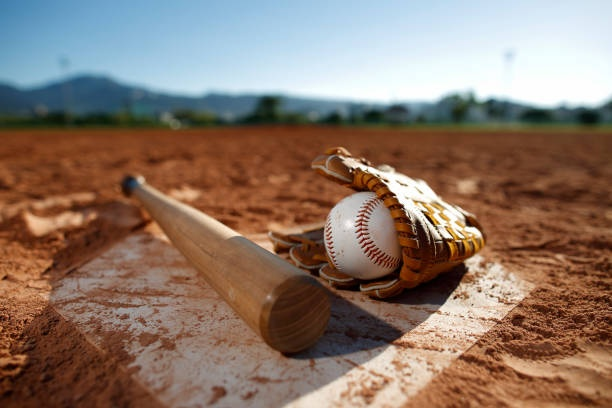bita: (122, 173, 322, 343)
